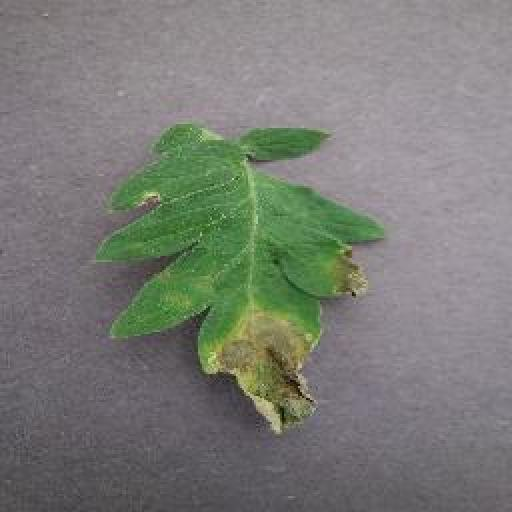Late Blight: (92, 121, 389, 435)
